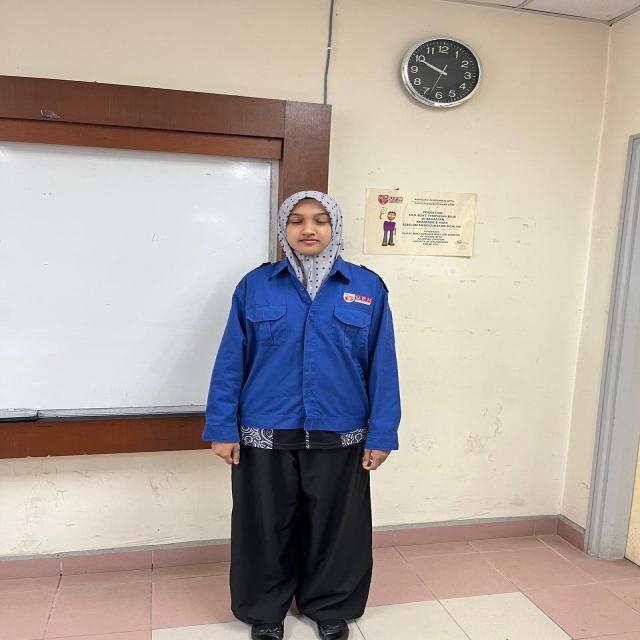person_with_labcoat: (202, 190, 400, 640)
